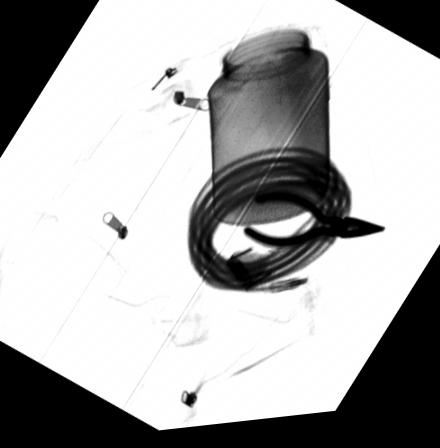Pliers: (241, 194, 387, 255)
